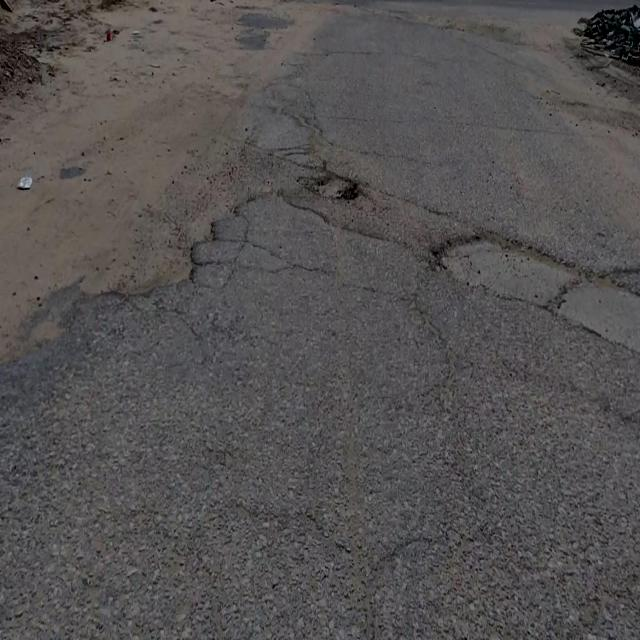Potholes: (431, 222, 594, 312), (74, 217, 219, 304), (299, 167, 363, 207)
